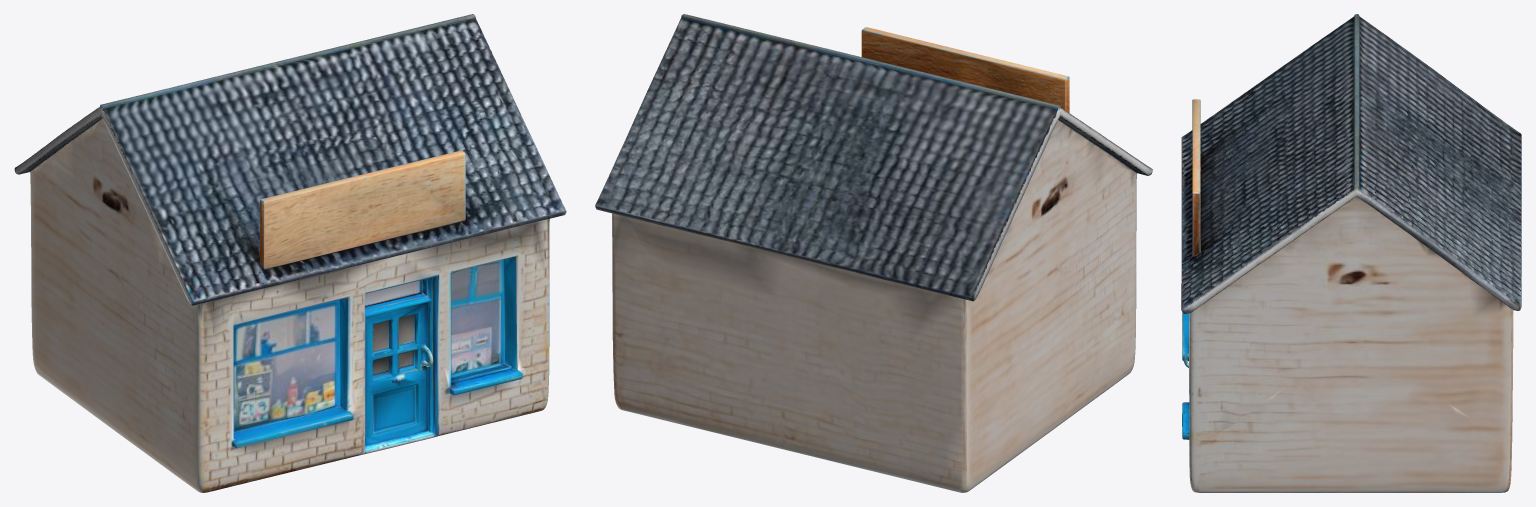
Rendered from house2.glb.
3 views of the same model, side by side, from view 1: azimuth 30°, elevation 25°; view 2: azimuth 150°, elevation 25°; view 3: azimuth 270°, elevation 25° (orthographic). The views are drawn at different scales.
Visible parts, largest first — view 1: house2; view 2: house2; view 3: house2.
Boxes of the visible parts, bbox=[...] form: house2: bbox=[14, 14, 566, 492]; house2: bbox=[595, 14, 1152, 492]; house2: bbox=[1181, 14, 1521, 492].
Size of the model in its own units: 1.19 by 1 by 0.9851.
Materials: 1 (1 with a texture image).
